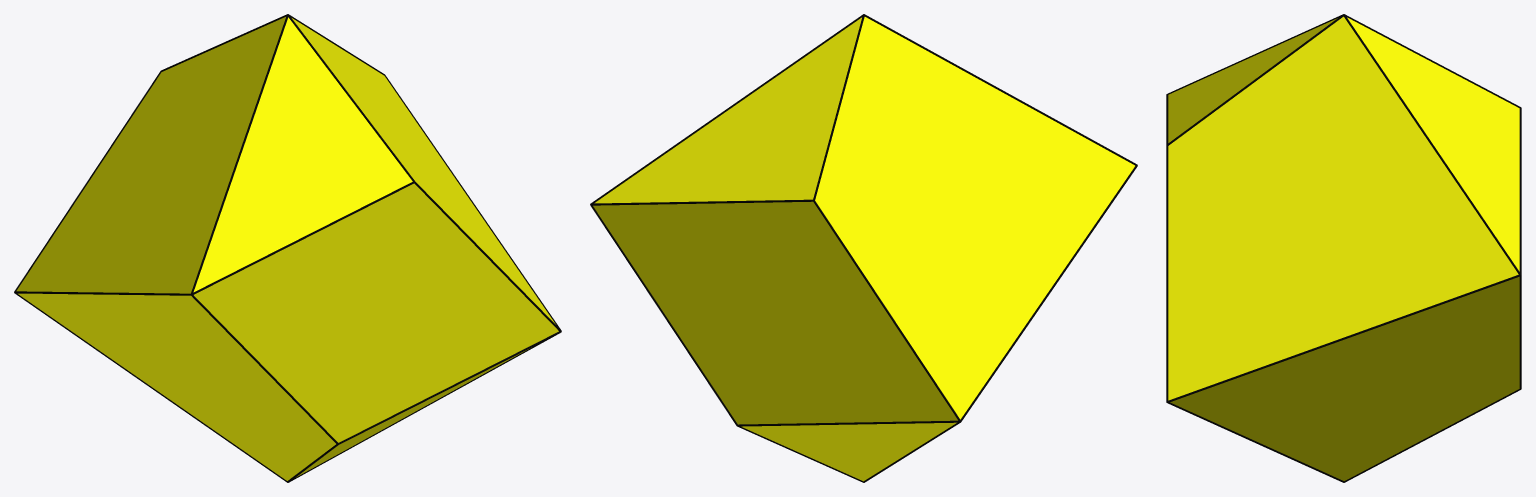
File: quiz_111.dae
3 views of the same model, side by side, from view 1: azimuth 30°, elevation 25°; view 2: azimuth 150°, elevation 25°; view 3: azimuth 270°, elevation 25° (orthographic).
Parts seen in each view (by area): view 1: visgeom_0, geometry_edges0_0_quiz_111.off; view 2: visgeom_0, geometry_edges0_0_quiz_111.off; view 3: visgeom_0, geometry_edges0_0_quiz_111.off.
Part boxes in pixels (left/top/right/bottom): visgeom_0: left=16, top=17, right=558, bottom=480; geometry_edges0_0_quiz_111.off: left=14, top=14, right=561, bottom=482; visgeom_0: left=593, top=17, right=1134, bottom=481; geometry_edges0_0_quiz_111.off: left=590, top=14, right=1137, bottom=482; visgeom_0: left=1168, top=16, right=1519, bottom=480; geometry_edges0_0_quiz_111.off: left=1166, top=14, right=1521, bottom=482.
Size of the model in its own units: 2.01 by 1.67 by 2.42.
